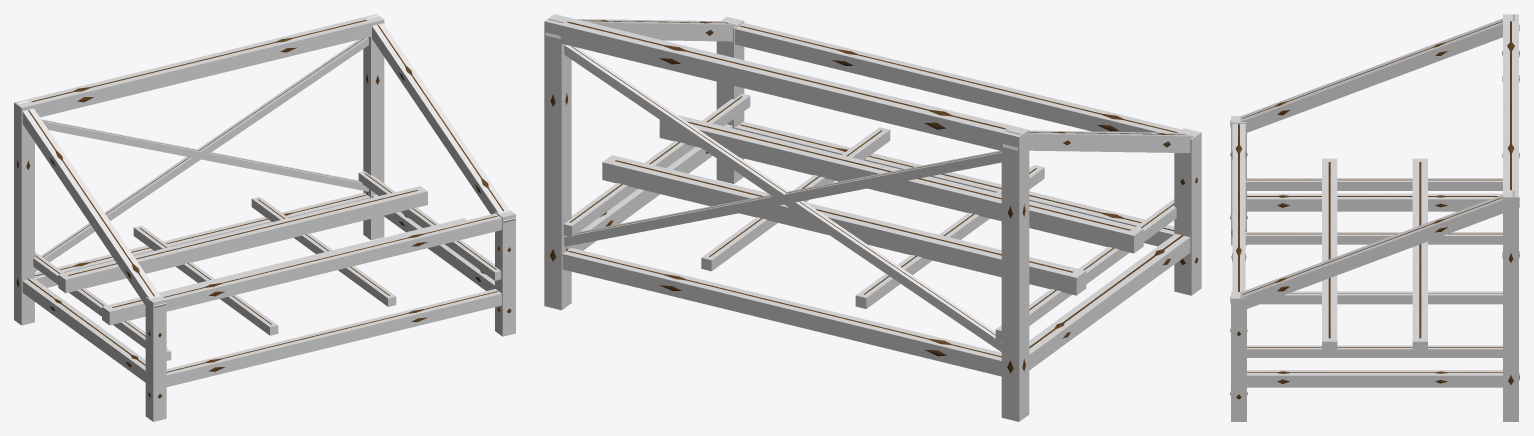
The model's file is DryingRack.fbx.
3 views of the same model, side by side, from view 1: azimuth 30°, elevation 25°; view 2: azimuth 150°, elevation 25°; view 3: azimuth 270°, elevation 25° (orthographic). The views are drawn at different scales.
Parts seen in each view (by area): view 1: COL_DryingRack_Beam_11, COL_DryingRack_Beam_14, COL_DryingRack_Beam_12, COL_DryingRack_Beam_09, DryingRack, COL_DryingRack_Beam_04, COL_DryingRack_Beam_19, COL_DryingRack_Beam_08, COL_DryingRack_Beam_02, COL_DryingRack_Beam_06, COL_DryingRack_Beam_20, COL_DryingRack_Beam_03 (+9 smaller); view 2: COL_DryingRack_Beam_11, COL_DryingRack_Beam_13, COL_DryingRack_Beam_14, COL_DryingRack_Beam_10, COL_DryingRack_Beam_12, DryingRack, COL_DryingRack_Beam_02, COL_DryingRack_Beam_19, COL_DryingRack_Beam_06, COL_DryingRack_Beam_20, COL_DryingRack_Beam_03, COL_DryingRack_Beam_01 (+9 smaller); view 3: COL_DryingRack_Beam_08, COL_DryingRack_Beam_04, DryingRack, COL_DryingRack_Beam_07, COL_DryingRack_Beam_06, COL_DryingRack_Beam_03, COL_DryingRack_Beam_18, COL_DryingRack_Beam_15, COL_DryingRack_Beam_17, COL_DryingRack_Beam_13, COL_DryingRack_Beam_14, COL_DryingRack_Beam_11 (+4 smaller).
Boxes of the visible parts, x1,y1,x2,y2 form: COL_DryingRack_Beam_11: (14,17,381,121); COL_DryingRack_Beam_14: (58,186,427,293); COL_DryingRack_Beam_12: (161,213,501,311); COL_DryingRack_Beam_09: (166,289,501,386); DryingRack: (16,20,511,398); COL_DryingRack_Beam_04: (17,100,165,307); COL_DryingRack_Beam_19: (35,37,368,272); COL_DryingRack_Beam_08: (366,15,515,222); COL_DryingRack_Beam_02: (14,104,34,325); COL_DryingRack_Beam_06: (363,14,384,240); COL_DryingRack_Beam_20: (41,119,368,191); COL_DryingRack_Beam_03: (22,278,145,382); COL_DryingRack_Beam_11: (544,18,1029,154); COL_DryingRack_Beam_13: (659,115,1143,253); COL_DryingRack_Beam_14: (602,155,1086,295); COL_DryingRack_Beam_10: (562,247,1001,376); COL_DryingRack_Beam_12: (735,22,1181,132); DryingRack: (550,20,1198,372); COL_DryingRack_Beam_02: (1001,128,1029,421); COL_DryingRack_Beam_19: (564,45,1001,351); COL_DryingRack_Beam_06: (544,14,571,310); COL_DryingRack_Beam_20: (564,150,1001,246); COL_DryingRack_Beam_03: (1029,233,1190,370); COL_DryingRack_Beam_01: (1174,128,1201,295); COL_DryingRack_Beam_08: (1230,190,1519,308); COL_DryingRack_Beam_04: (1230,14,1519,132); DryingRack: (1230,21,1519,399); COL_DryingRack_Beam_07: (1247,370,1502,387); COL_DryingRack_Beam_06: (1503,190,1518,421); COL_DryingRack_Beam_03: (1247,193,1502,211); COL_DryingRack_Beam_18: (1247,345,1502,357); COL_DryingRack_Beam_15: (1245,178,1502,190); COL_DryingRack_Beam_17: (1260,291,1502,304); COL_DryingRack_Beam_13: (1322,158,1337,355); COL_DryingRack_Beam_14: (1412,158,1427,355); COL_DryingRack_Beam_11: (1503,14,1518,211).
Bounding box in the file's own units: 0.45 × 0.2582 × 0.3002.
1 material, 1 textured.
